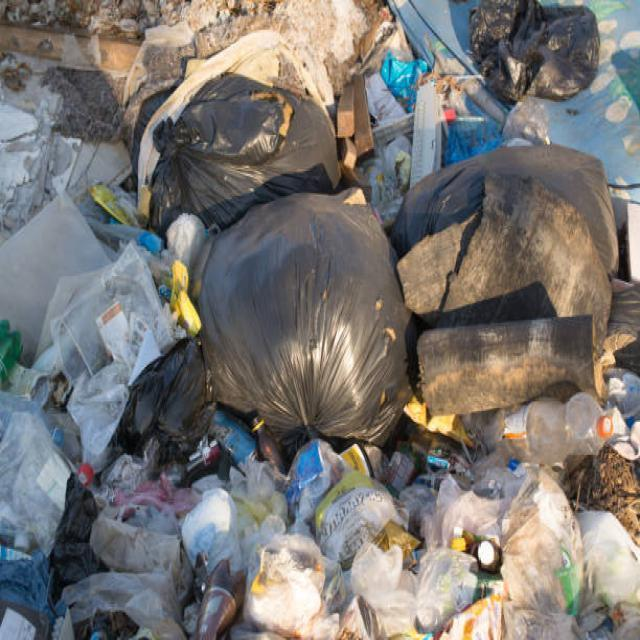Trashbag: (203, 210, 403, 429), (148, 74, 339, 245), (474, 8, 604, 90), (126, 342, 216, 460)
